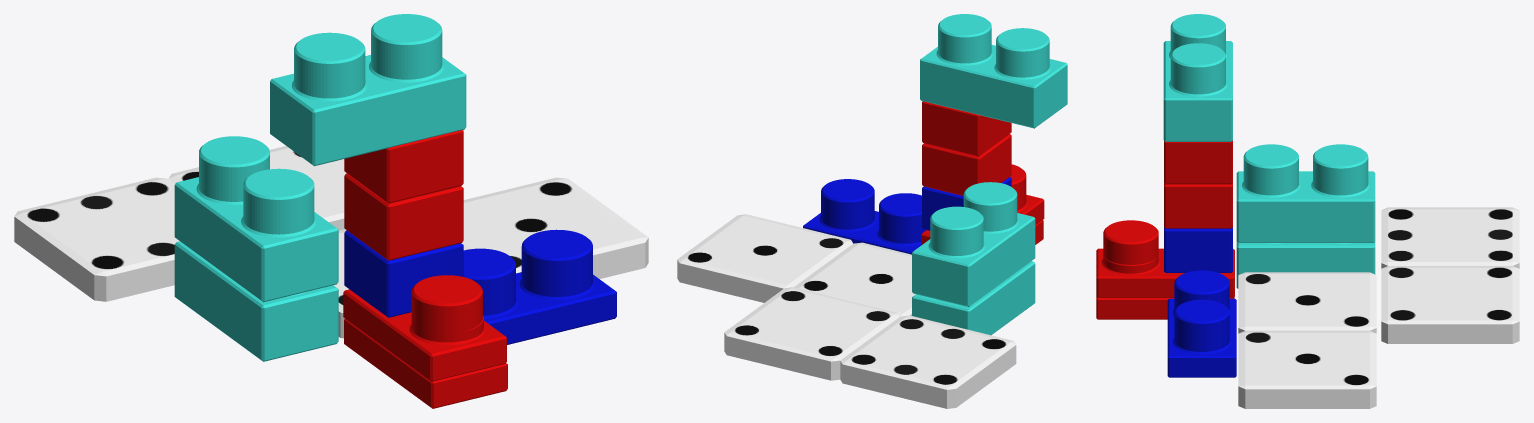
The picture shows the model from 3 angles, left to right: view 1: azimuth 30°, elevation 25°; view 2: azimuth 150°, elevation 25°; view 3: azimuth 270°, elevation 25°; orthographic projection. The views are drawn at different scales.
Visible parts, largest first — view 1: Cube.037, Cube.036, Dom.303_low_0.001, Cube.034, Cube.030, Dom.111_low_0.001, Cube.032, Cube.035, Cube.033, Cube.031; view 2: Dom.303_low_0.001, Dom.111_low_0.001, Cube.037, Cube.036, Cube.034, Cube.030, Cube.035, Cube.032, Cube.033; view 3: Dom.111_low_0.001, Dom.303_low_0.001, Cube.036, Cube.037, Cube.030, Cube.034, Cube.032, Cube.035, Cube.033, Cube.031.
Boxes of the visible parts, left/top/right/bottom form: Cube.037: left=270, top=14, right=466, bottom=166; Cube.036: left=174, top=136, right=338, bottom=302; Dom.303_low_0.001: left=14, top=146, right=346, bottom=301; Cube.034: left=344, top=130, right=463, bottom=260; Cube.030: left=463, top=229, right=616, bottom=344; Dom.111_low_0.001: left=333, top=177, right=648, bottom=338; Cube.032: left=343, top=275, right=506, bottom=381; Cube.035: left=174, top=241, right=338, bottom=361; Cube.033: left=344, top=230, right=463, bottom=317; Cube.031: left=344, top=315, right=507, bottom=408; Dom.303_low_0.001: left=724, top=287, right=1016, bottom=408; Dom.111_low_0.001: left=677, top=214, right=915, bottom=316; Cube.037: left=920, top=14, right=1067, bottom=128; Cube.036: left=912, top=182, right=1035, bottom=306; Cube.034: left=922, top=101, right=1011, bottom=195; Cube.030: left=803, top=179, right=926, bottom=254; Cube.035: left=912, top=261, right=1035, bottom=335; Cube.032: left=921, top=164, right=1044, bottom=245; Cube.033: left=922, top=177, right=1011, bottom=230; Dom.111_low_0.001: left=1238, top=272, right=1376, bottom=408; Dom.303_low_0.001: left=1381, top=207, right=1519, bottom=343; Cube.036: left=1236, top=144, right=1375, bottom=242; Cube.037: left=1163, top=14, right=1232, bottom=141; Cube.030: left=1167, top=270, right=1236, bottom=377; Cube.034: left=1164, top=141, right=1232, bottom=228; Cube.032: left=1096, top=220, right=1234, bottom=297; Cube.035: left=1236, top=242, right=1375, bottom=288; Cube.033: left=1164, top=227, right=1232, bottom=272; Cube.031: left=1096, top=255, right=1234, bottom=319.
Size of the model in its own units: 6 by 4.03 by 6.12.
Materials: 7 (3 with a texture image).
